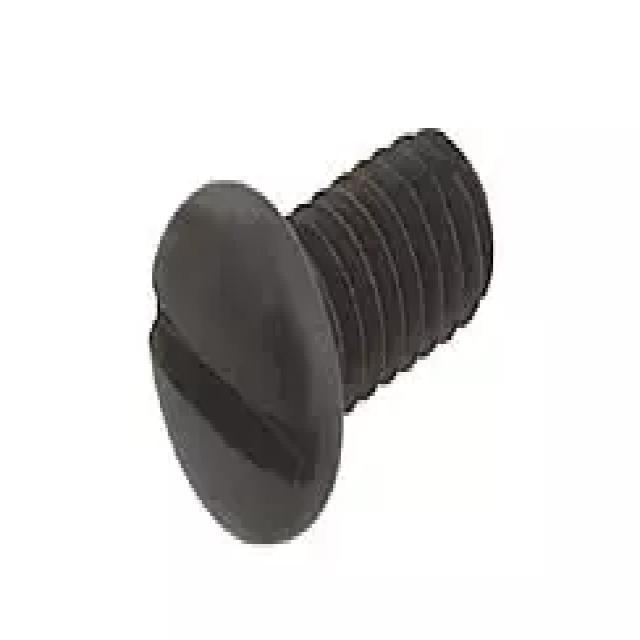duz: (148, 180, 344, 546)
